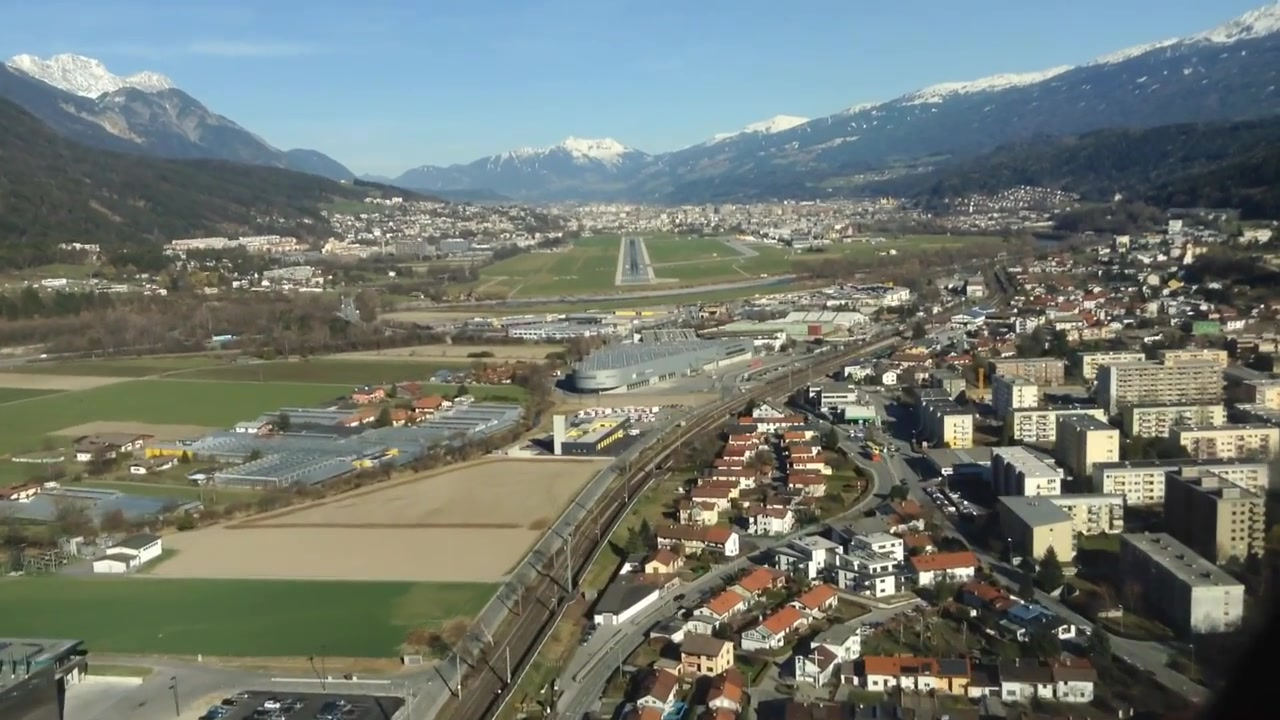entrance: (617, 275, 651, 281)
runway: (617, 235, 652, 286)
